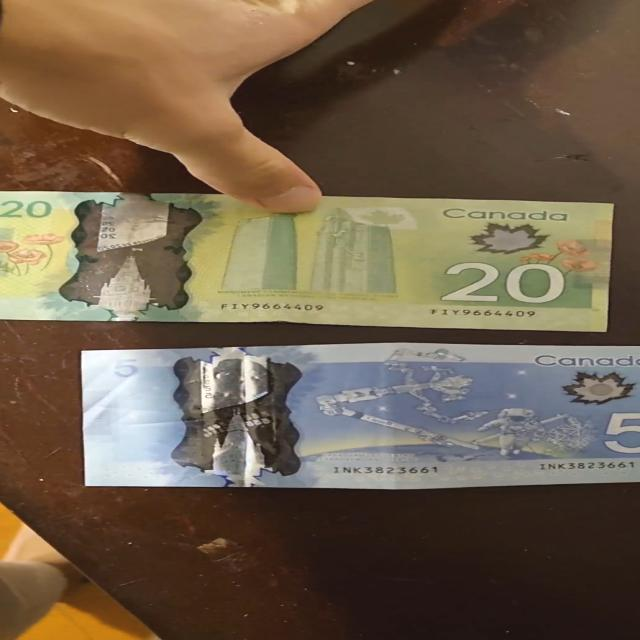20 cad: (0, 196, 619, 334)
5 cad: (79, 346, 640, 486)
